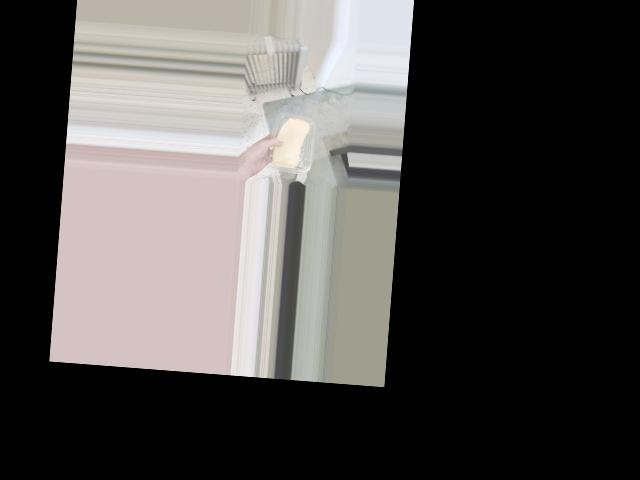cheese: (266, 109, 315, 173)
